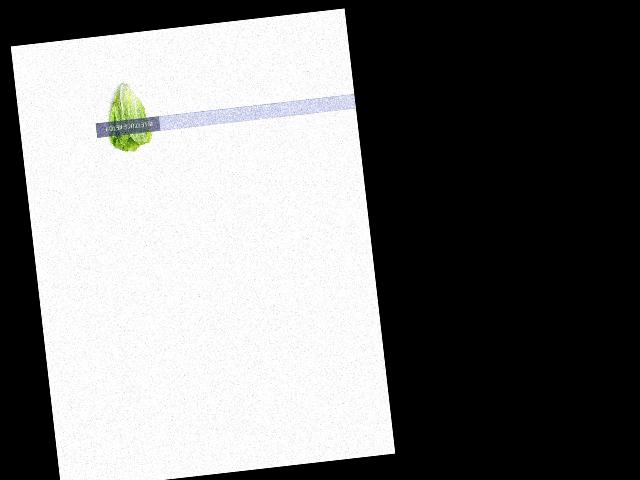lettuce: (98, 74, 155, 154)
